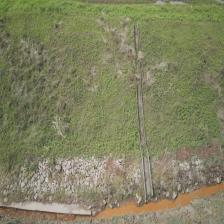rock toe: (3, 156, 109, 192)
slope drain: (135, 22, 154, 203)
